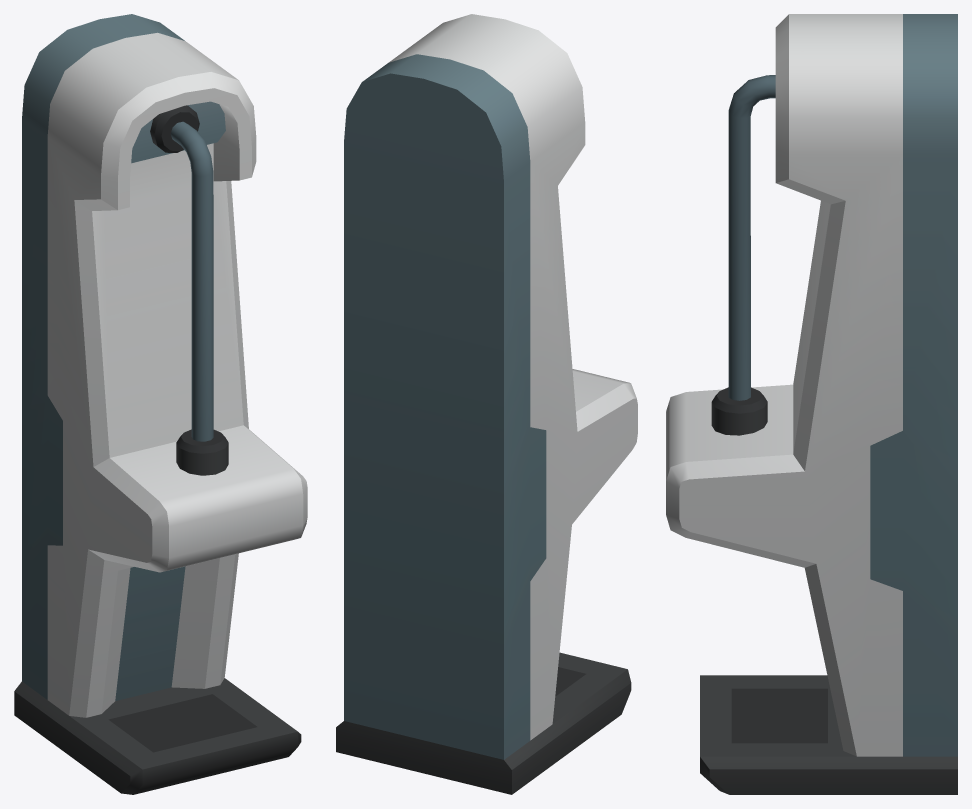
File: Terminal_006.fbx
3 renders of one model, left to right at view 1: azimuth 30°, elevation 25°; view 2: azimuth 150°, elevation 25°; view 3: azimuth 270°, elevation 25°, orthographic. The views are drawn at different scales.
Visible parts, largest first — view 1: Terminal_006; view 2: Terminal_006; view 3: Terminal_006.
Part boxes in pixels (x1,y1,x2,y2): Terminal_006: [14, 14, 307, 794]; Terminal_006: [336, 14, 637, 794]; Terminal_006: [666, 14, 957, 794].
Bounding box in the file's own units: 55.62 × 76.9 × 210.
